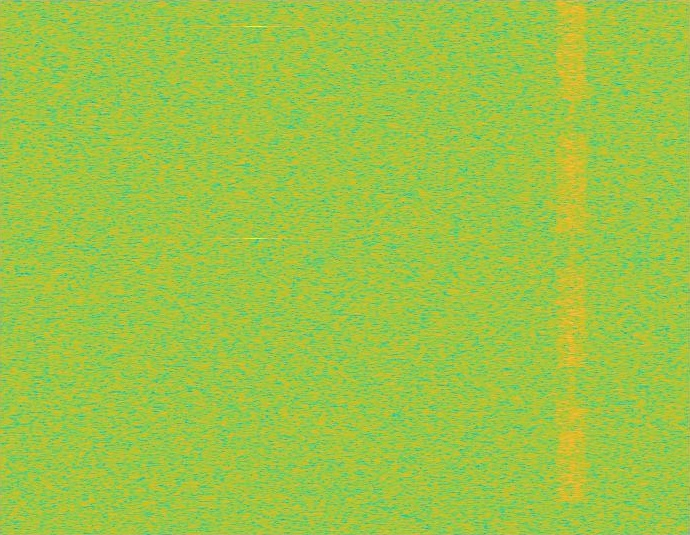5G: (555, 0, 589, 534)
DSSS: (569, 0, 574, 534)
Radar: (249, 0, 262, 534)
